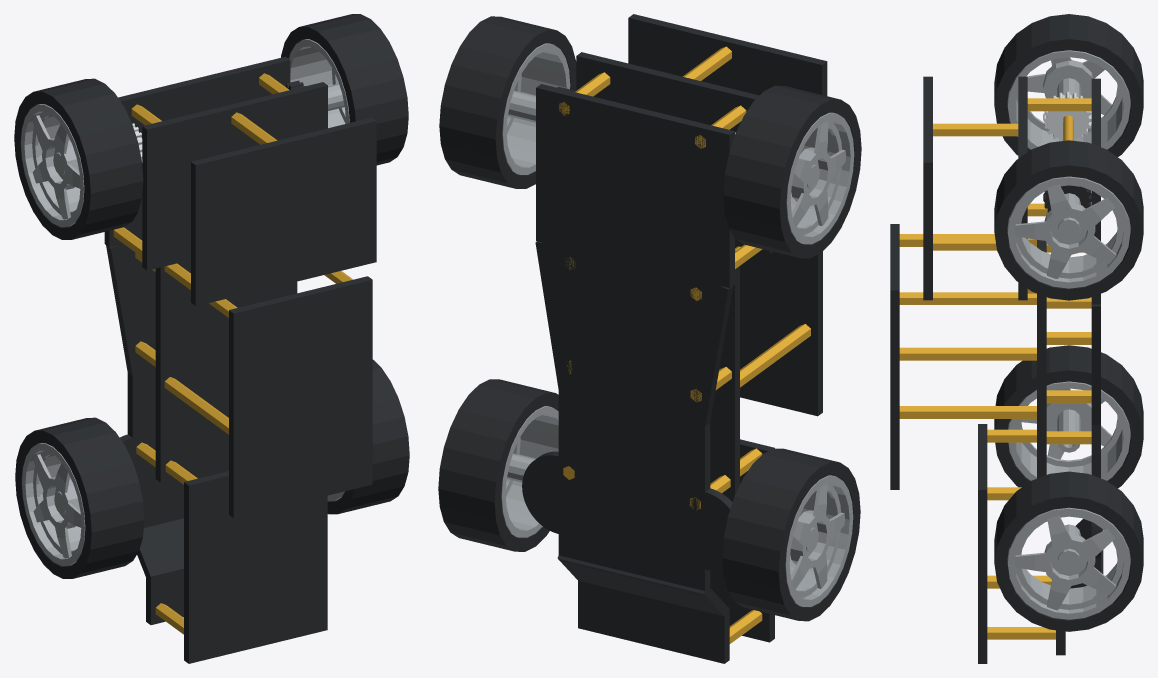
The model's file is tinker.obj.
The picture shows the model from 3 angles, left to right: view 1: azimuth 30°, elevation 25°; view 2: azimuth 150°, elevation 25°; view 3: azimuth 270°, elevation 25°; orthographic projection. The views are drawn at different scales.
Parts seen in each view (by area): view 1: obj_36, obj_11, obj_27, obj_37, obj_13, obj_14, obj_29, obj_5, obj_0, obj_12, obj_8, obj_6 (+4 smaller); view 2: obj_5, obj_11, obj_0, obj_13, obj_12, obj_36, obj_27, obj_7, obj_29, obj_8, obj_4, obj_14 (+6 smaller); view 3: obj_11, obj_12, obj_13, obj_36, obj_37, obj_27, obj_38, obj_14, obj_35, obj_34, obj_4, obj_28 (+15 smaller).
Part boxes in pixels (x1=…): obj_36: x1=229, y1=276, x2=372, y2=518; obj_11: x1=14, y1=14, x2=408, y2=239; obj_27: x1=191, y1=117, x2=376, y2=305; obj_37: x1=184, y1=471, x2=327, y2=663; obj_13: x1=15, y1=417, x2=144, y2=578; obj_14: x1=155, y1=260, x2=297, y2=482; obj_29: x1=142, y1=82, x2=327, y2=270; obj_5: x1=127, y1=237, x2=228, y2=527; obj_0: x1=104, y1=56, x2=290, y2=247; obj_12: x1=327, y1=359, x2=409, y2=514; obj_8: x1=106, y1=235, x2=155, y2=376; obj_6: x1=137, y1=518, x2=183, y2=580; obj_5: x1=558, y1=247, x2=710, y2=595; obj_11: x1=439, y1=16, x2=861, y2=258; obj_0: x1=536, y1=84, x2=734, y2=288; obj_13: x1=722, y1=448, x2=860, y2=621; obj_12: x1=438, y1=379, x2=558, y2=551; obj_36: x1=735, y1=245, x2=822, y2=416; obj_27: x1=628, y1=14, x2=827, y2=95; obj_7: x1=578, y1=580, x2=729, y2=663; obj_29: x1=576, y1=52, x2=772, y2=253; obj_8: x1=670, y1=275, x2=733, y2=433; obj_4: x1=535, y1=241, x2=593, y2=401; obj_14: x1=710, y1=250, x2=739, y2=495; obj_11: x1=994, y1=14, x2=1143, y2=300; obj_12: x1=994, y1=471, x2=1143, y2=631; obj_13: x1=994, y1=345, x2=1143, y2=488; obj_36: x1=890, y1=224, x2=899, y2=489; obj_37: x1=978, y1=424, x2=987, y2=663; obj_27: x1=923, y1=76, x2=932, y2=300; obj_38: x1=899, y1=347, x2=1036, y2=360; obj_14: x1=1037, y1=240, x2=1046, y2=478; obj_35: x1=899, y1=406, x2=1036, y2=418; obj_34: x1=899, y1=292, x2=1036, y2=304; obj_4: x1=1091, y1=304, x2=1100, y2=425; obj_28: x1=933, y1=123, x2=1018, y2=136.
Bounding box in the file's own units: 152 × 252 × 107.
